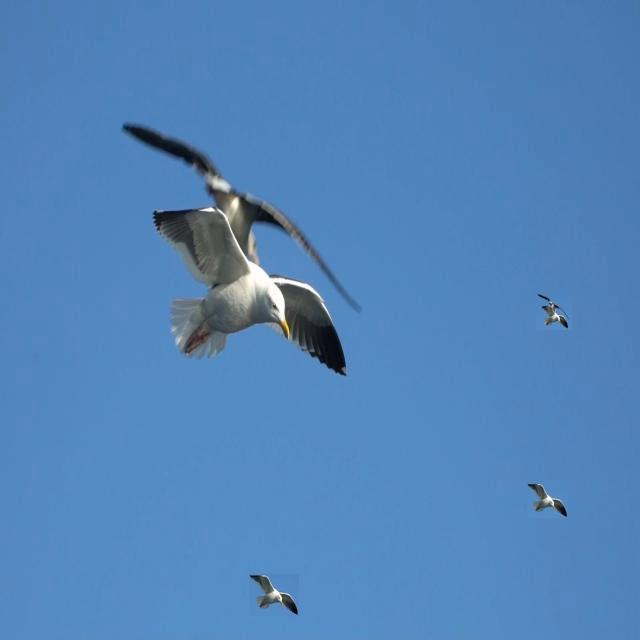bird: (119, 120, 363, 314), (151, 203, 350, 382), (251, 576, 300, 616), (529, 485, 569, 519), (536, 291, 570, 318), (538, 304, 569, 328)
